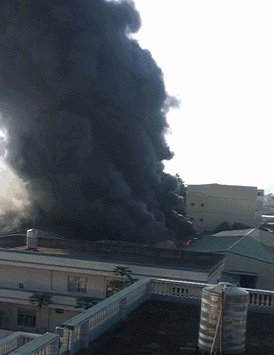smoke: (6, 6, 190, 241)
